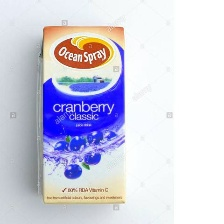carton: (31, 22, 132, 207)
